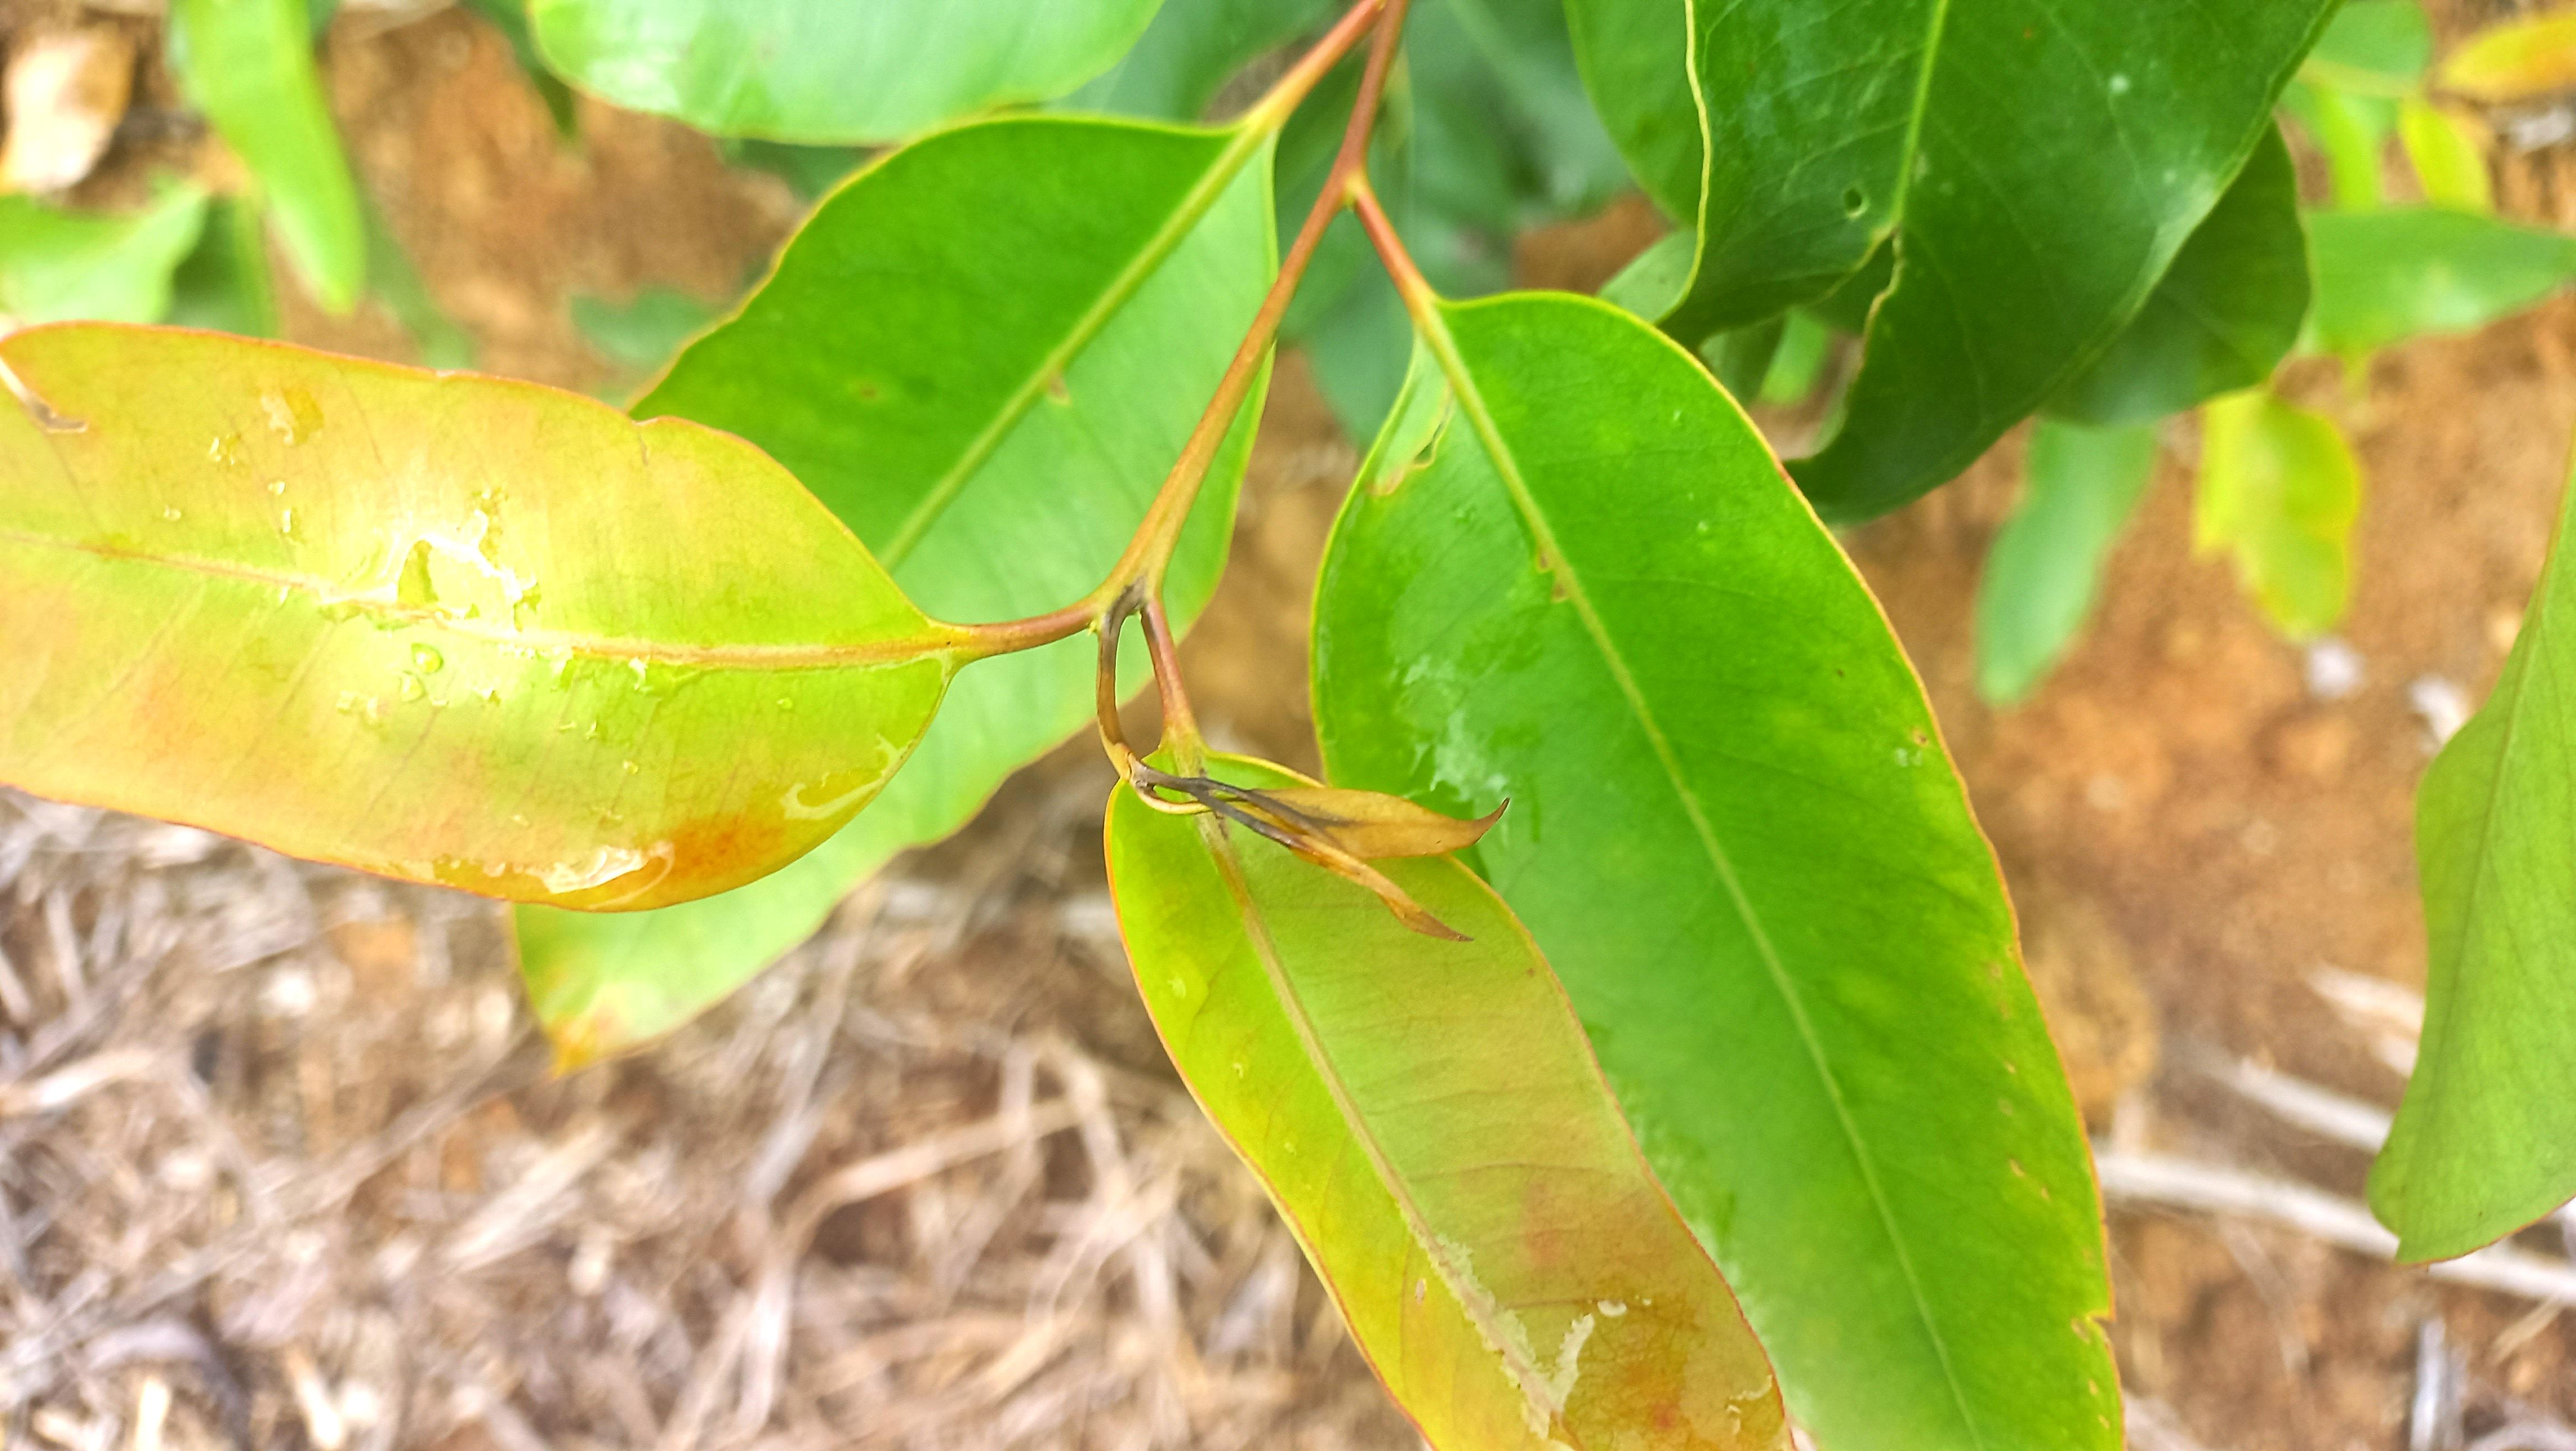Helopeltis-Withered Sprout: (1198, 784, 1507, 862)
